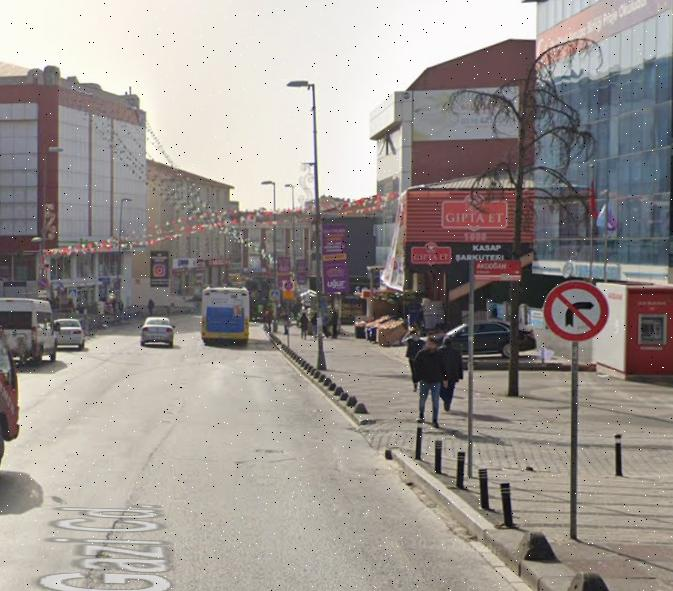rightturnsareforbidden: (541, 277, 609, 340)
